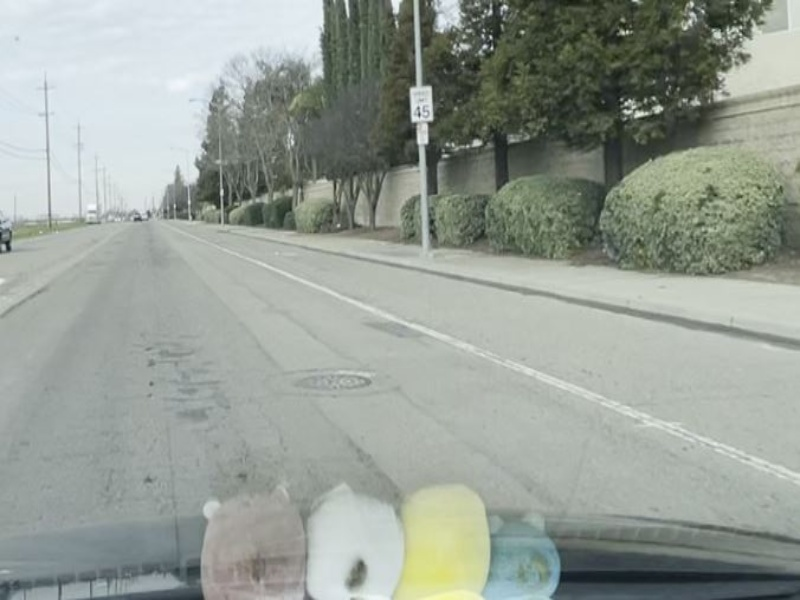speed limit sign: (406, 84, 435, 125)
